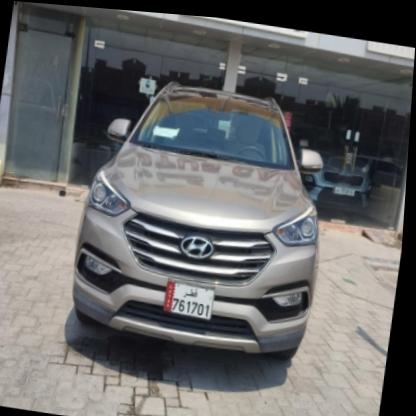np: (166, 272, 219, 320)
